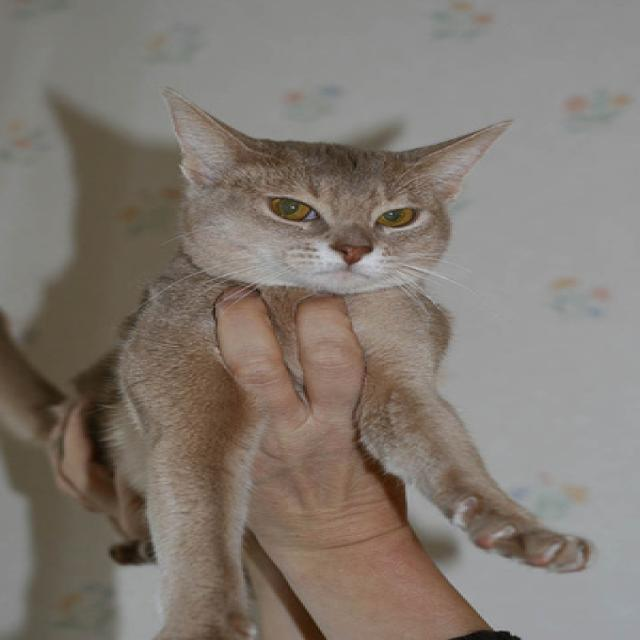Abyssinian: (0, 82, 599, 639)
